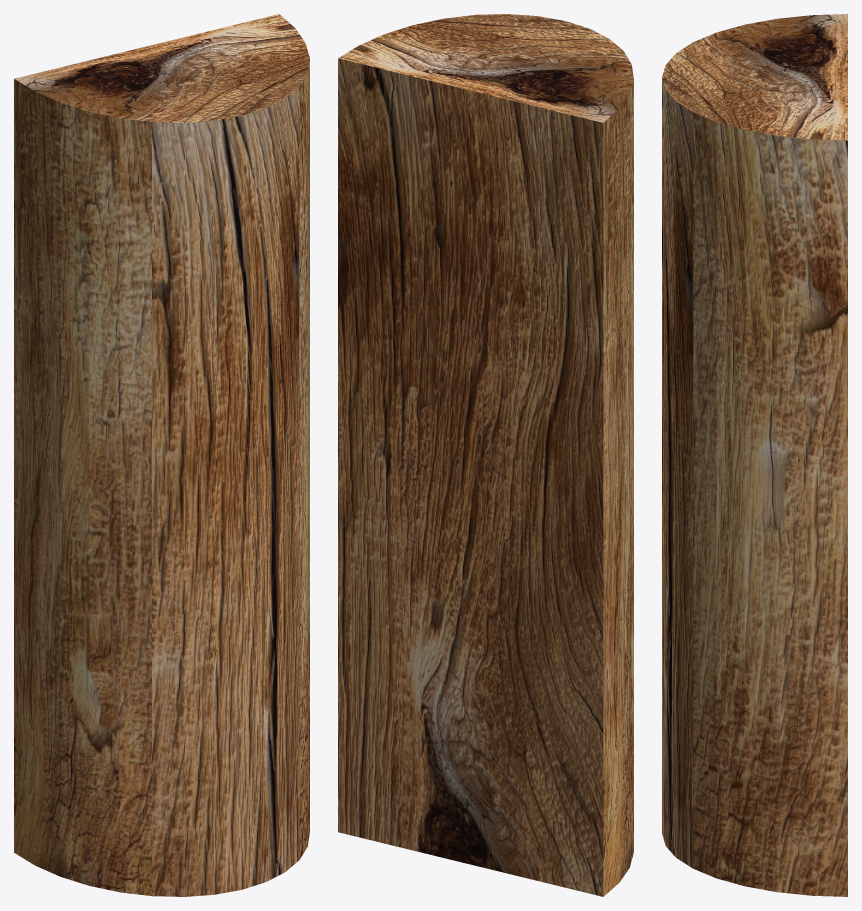
File: firewood.fbx
3 views of the same model, side by side, from view 1: azimuth 30°, elevation 25°; view 2: azimuth 150°, elevation 25°; view 3: azimuth 270°, elevation 25° (orthographic). The views are drawn at different scales.
Parts seen in each view (by area): view 1: Circle; view 2: Circle; view 3: Circle.
Part boxes in pixels (x1,y1,x2,y2): Circle: (14,14,309,896); Circle: (338,14,633,896); Circle: (662,14,847,896).
Bounding box in the file's own units: 46.19 × 129 × 28.65.
Materials: 1 (1 with a texture image).
